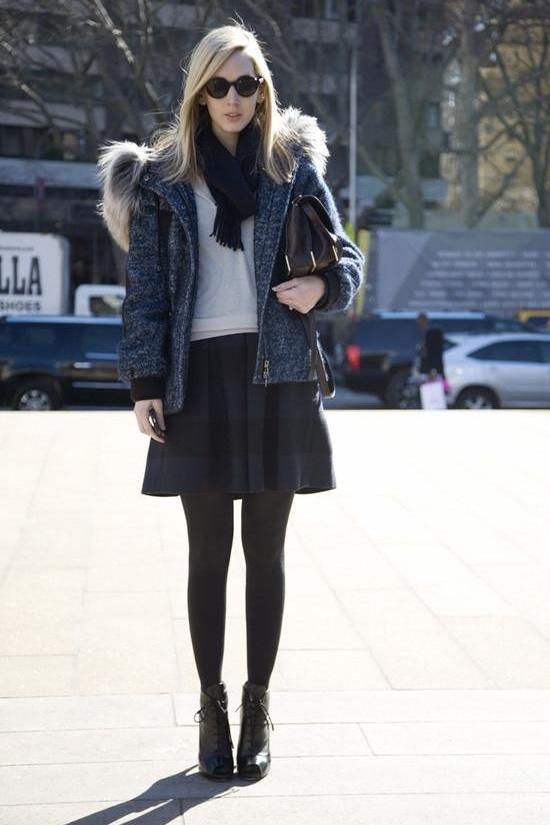skirt: (141, 331, 335, 498)
sweater: (101, 111, 364, 408)
